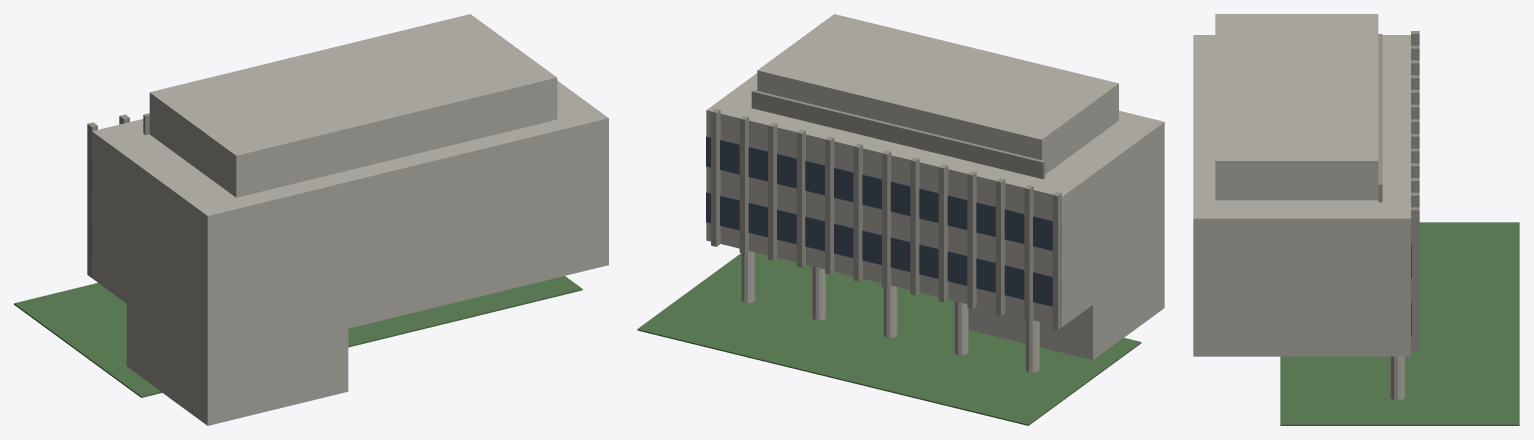
Rendered from kent.glb.
3 views of the same model, side by side, from view 1: azimuth 30°, elevation 25°; view 2: azimuth 150°, elevation 25°; view 3: azimuth 270°, elevation 25° (orthographic). The views are drawn at different scales.
Parts seen in each view (by area): view 1: kent; view 2: kent; view 3: kent.
Part boxes in pixels (bbox=[...]): kent: bbox=[14, 14, 608, 425]; kent: bbox=[637, 14, 1164, 425]; kent: bbox=[1193, 14, 1519, 425].
Size of the model in its own units: 22 by 12.05 by 15.
